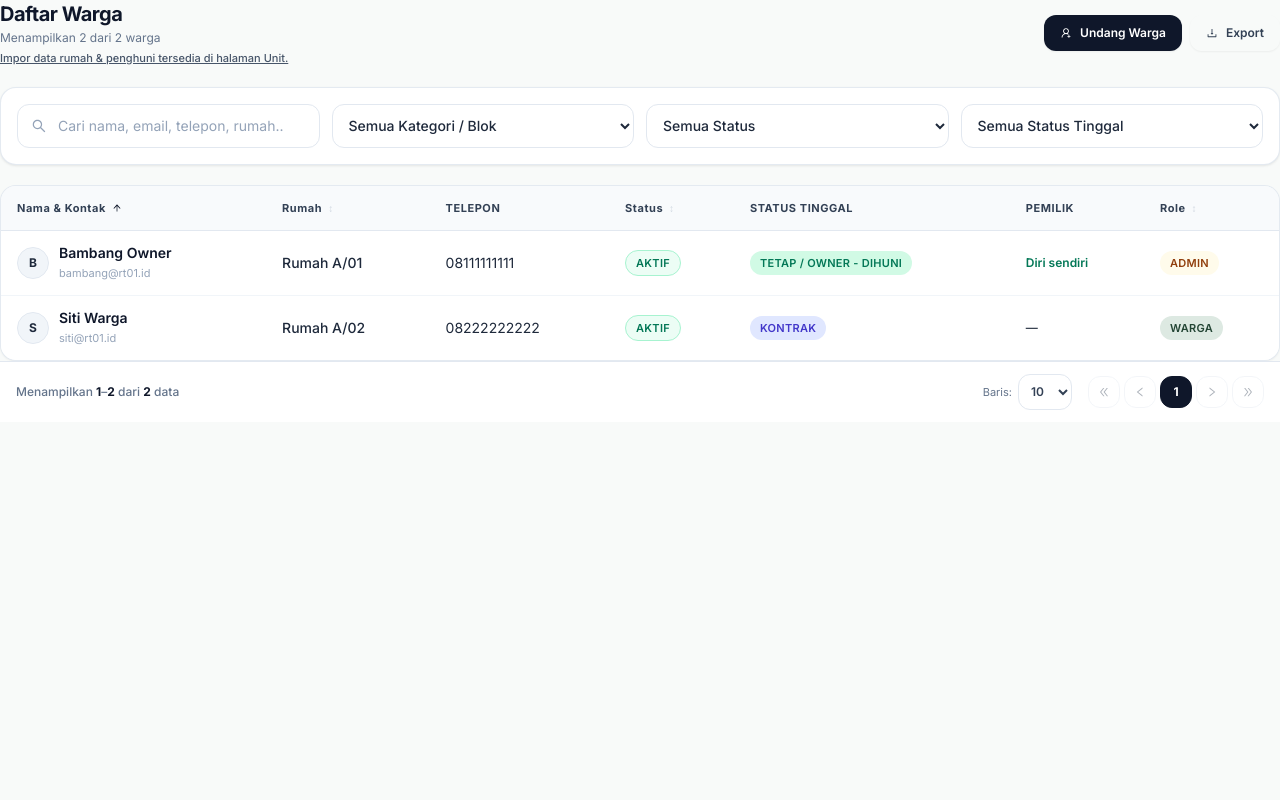
Test: Residents Tenant Mode (RTRW-2.2) › a. pengurus (canManageMembers true) -> tombol "Undang" tampil, tombol "Tambah" & impor warga tidak tampil; klik Undang -> kode & tautan /join/<kode> tampil
This screenshot has width=1280, height=800.
Expected: the link "Impor data rumah & penghuni tersedia di halaman Unit." is shown, [0,51,288,65]
Note: Klik tombol Undang Warga
Click the button "Undang Warga": (1113, 33) [1044,15,1182,51]
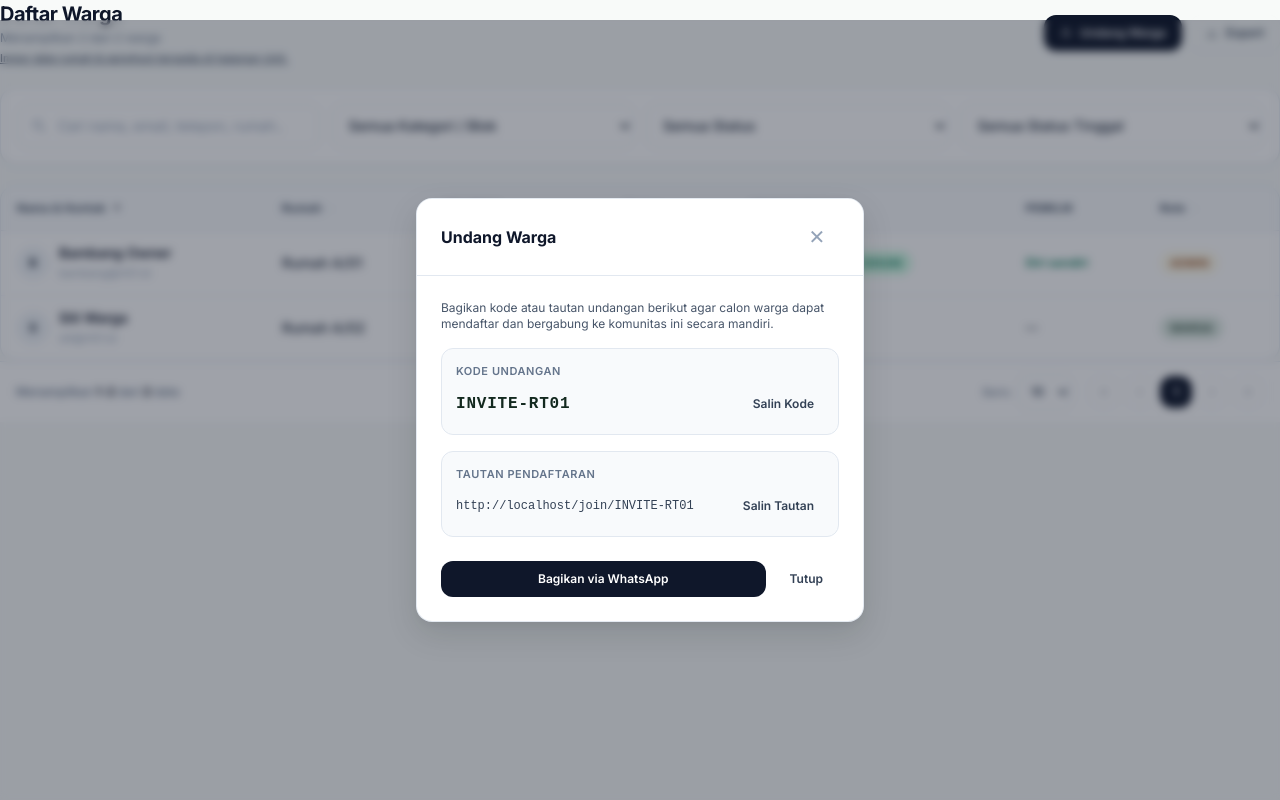
Expected: the text "INVITE-RT01" is shown, [456,392,570,416]
Expected: the text "/join/INVITE-RT01" is shown, [456,499,694,513]
Expected: the button "Salin Kode" is shown, [743,388,824,420]
